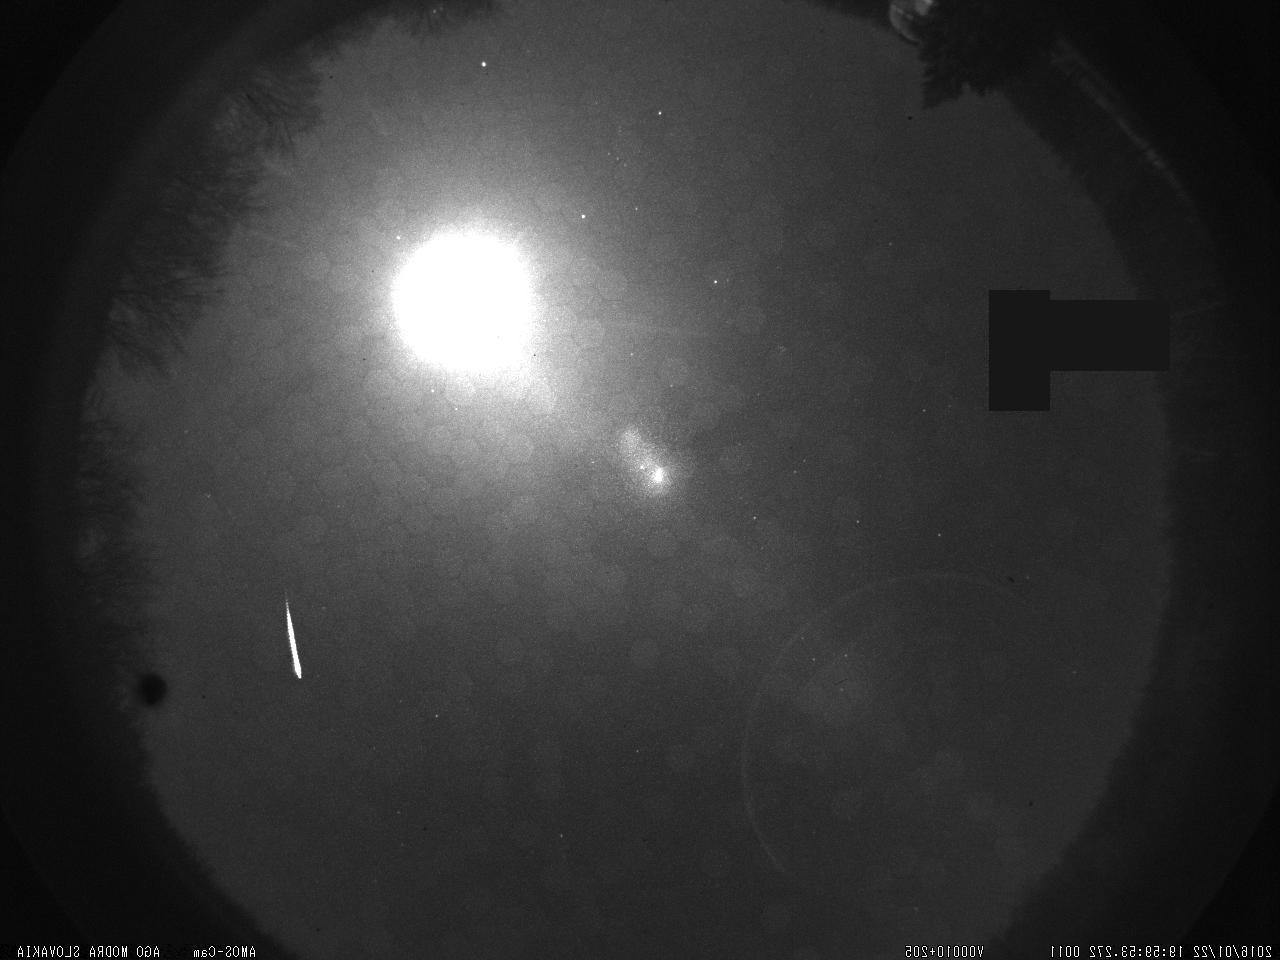meteor: (248, 562, 338, 715)
